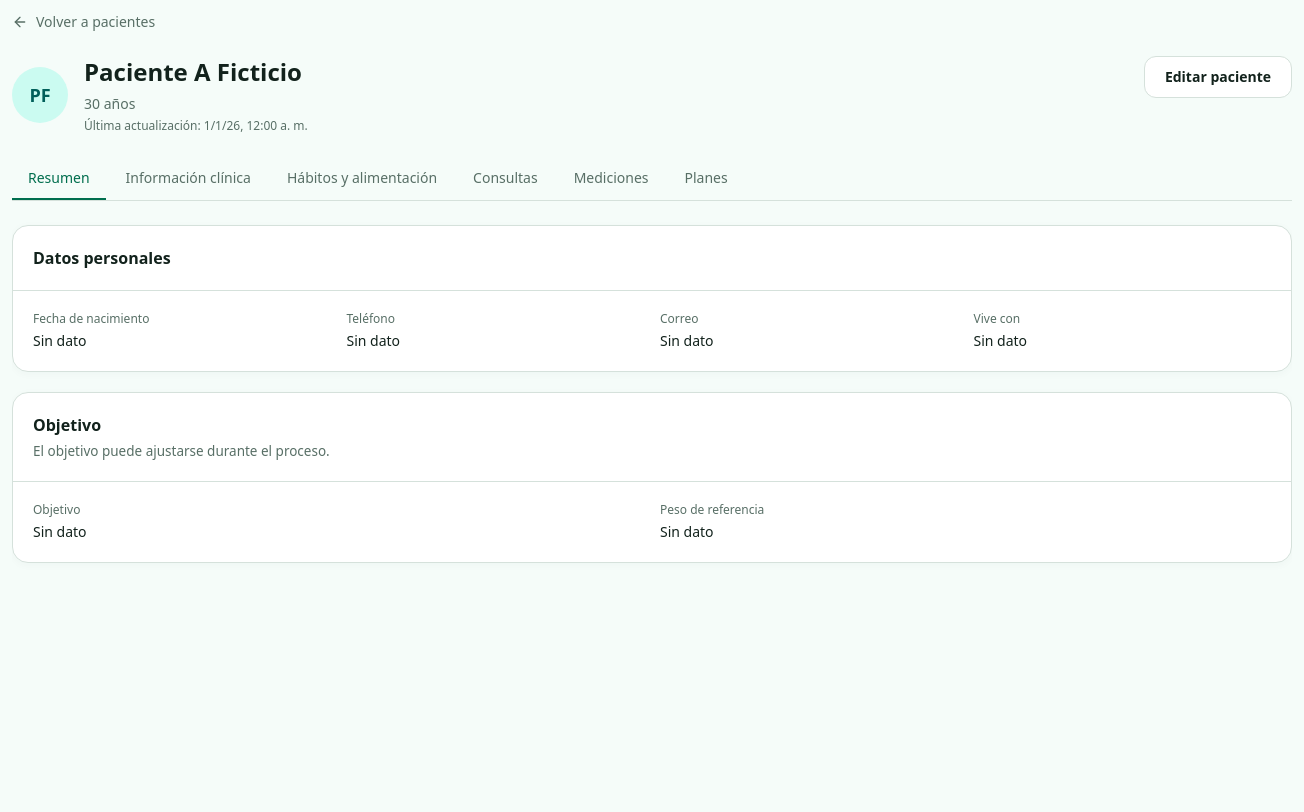
pestaña Planes (T39) › sin planes muestra el estado vacío
Click the button "Planes".
click(706, 179)  # box [668,158,744,200]
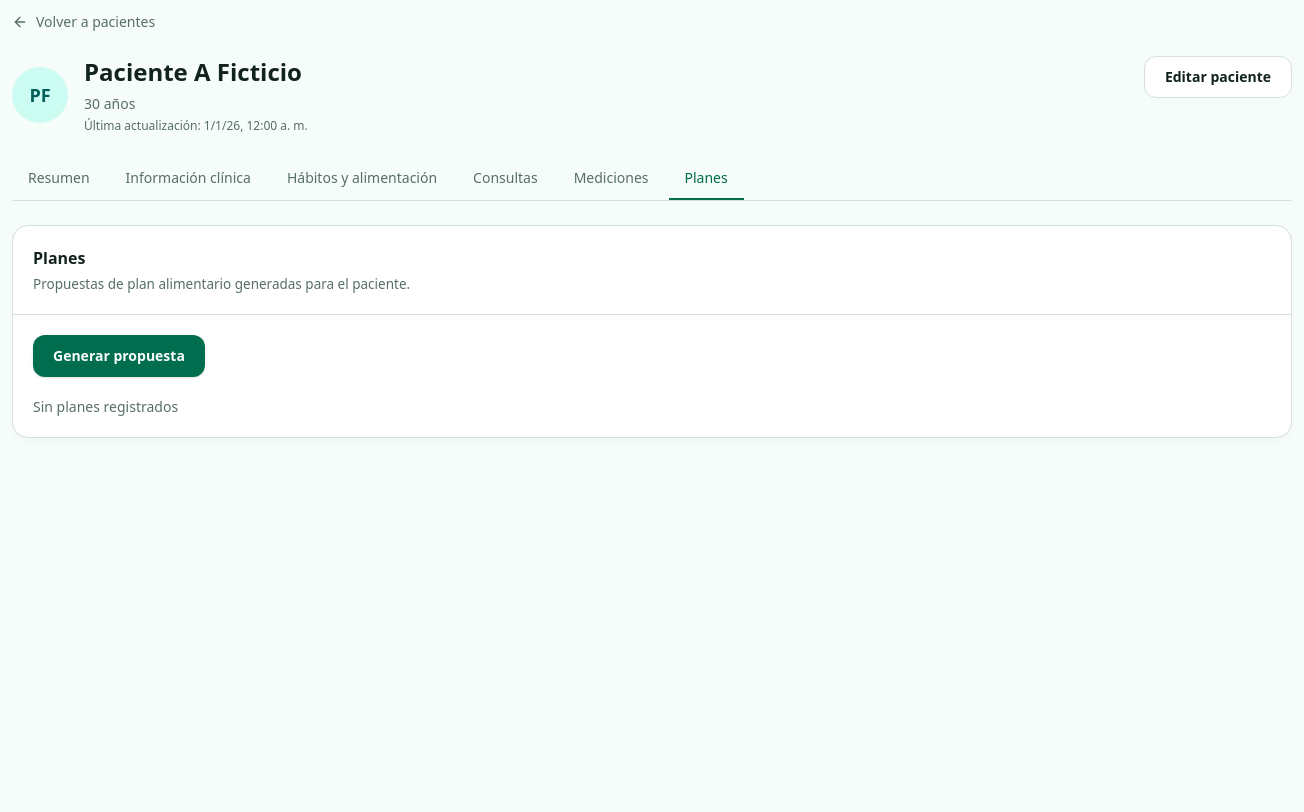
Result: the text "Sin planes registrados" is shown at [33,397,178,416]
